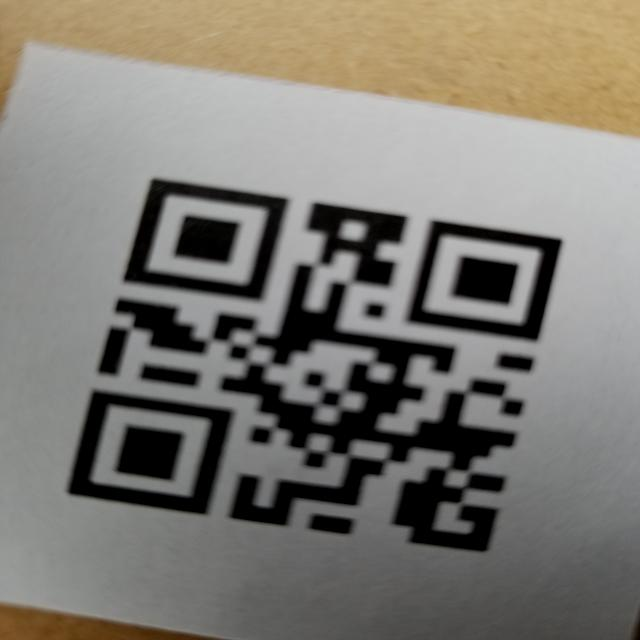QRCode: (28, 143, 595, 583)
